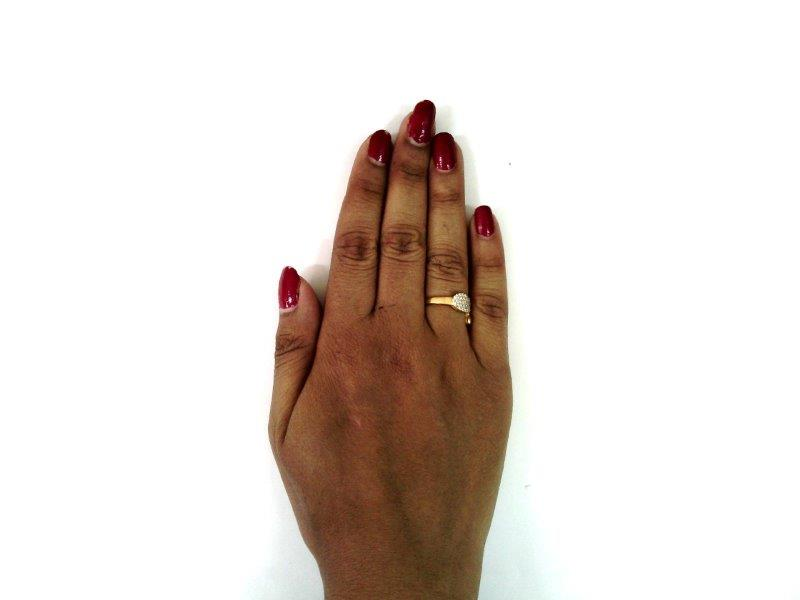hand: (268, 97, 512, 593)
